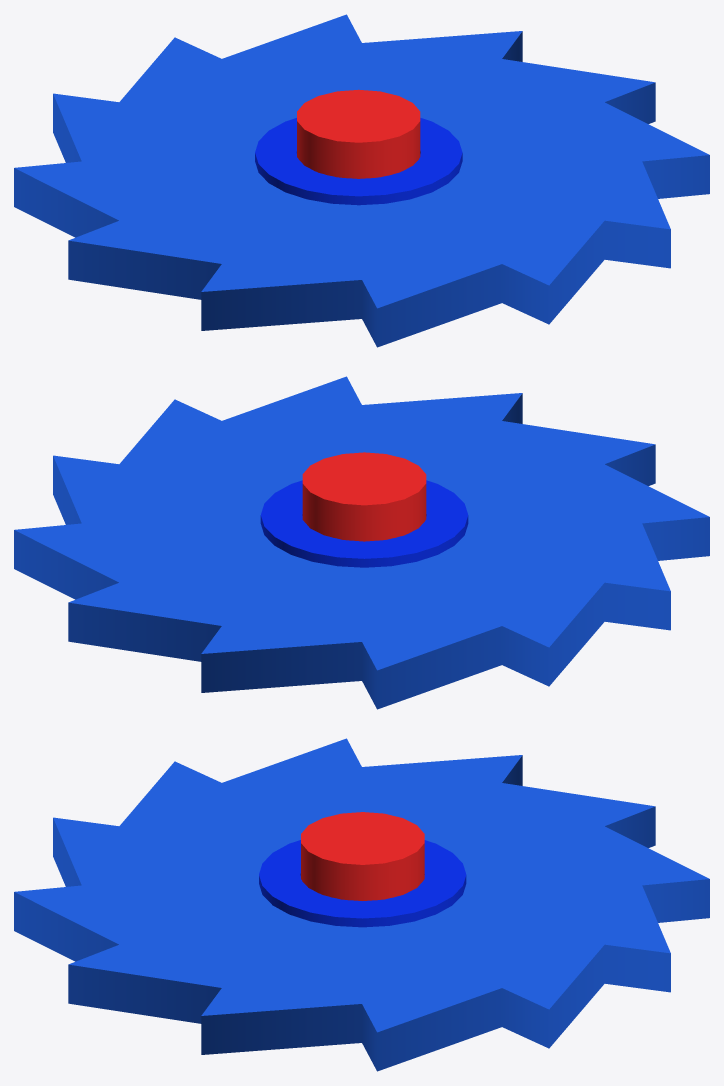
Rendered from saw_disc.fbx.
3 renders of one model, top to bottom at view 1: azimuth 30°, elevation 25°; view 2: azimuth 150°, elevation 25°; view 3: azimuth 270°, elevation 25°, orthographic.
Parts seen in each view (by area): view 1: Cylinder002, Cylinder001, Cylinder003; view 2: Cylinder002, Cylinder001, Cylinder003; view 3: Cylinder002, Cylinder001, Cylinder003.
Boxes of the visible parts, bbox=[...] form: Cylinder002: bbox=[14, 14, 709, 347]; Cylinder001: bbox=[297, 89, 420, 178]; Cylinder003: bbox=[255, 118, 462, 205]; Cylinder002: bbox=[14, 376, 709, 709]; Cylinder001: bbox=[302, 452, 426, 541]; Cylinder003: bbox=[260, 480, 468, 567]; Cylinder002: bbox=[14, 738, 709, 1071]; Cylinder001: bbox=[301, 812, 424, 900]; Cylinder003: bbox=[259, 840, 466, 927].
Bounding box in the file's own units: 198 × 30.45 × 198.
